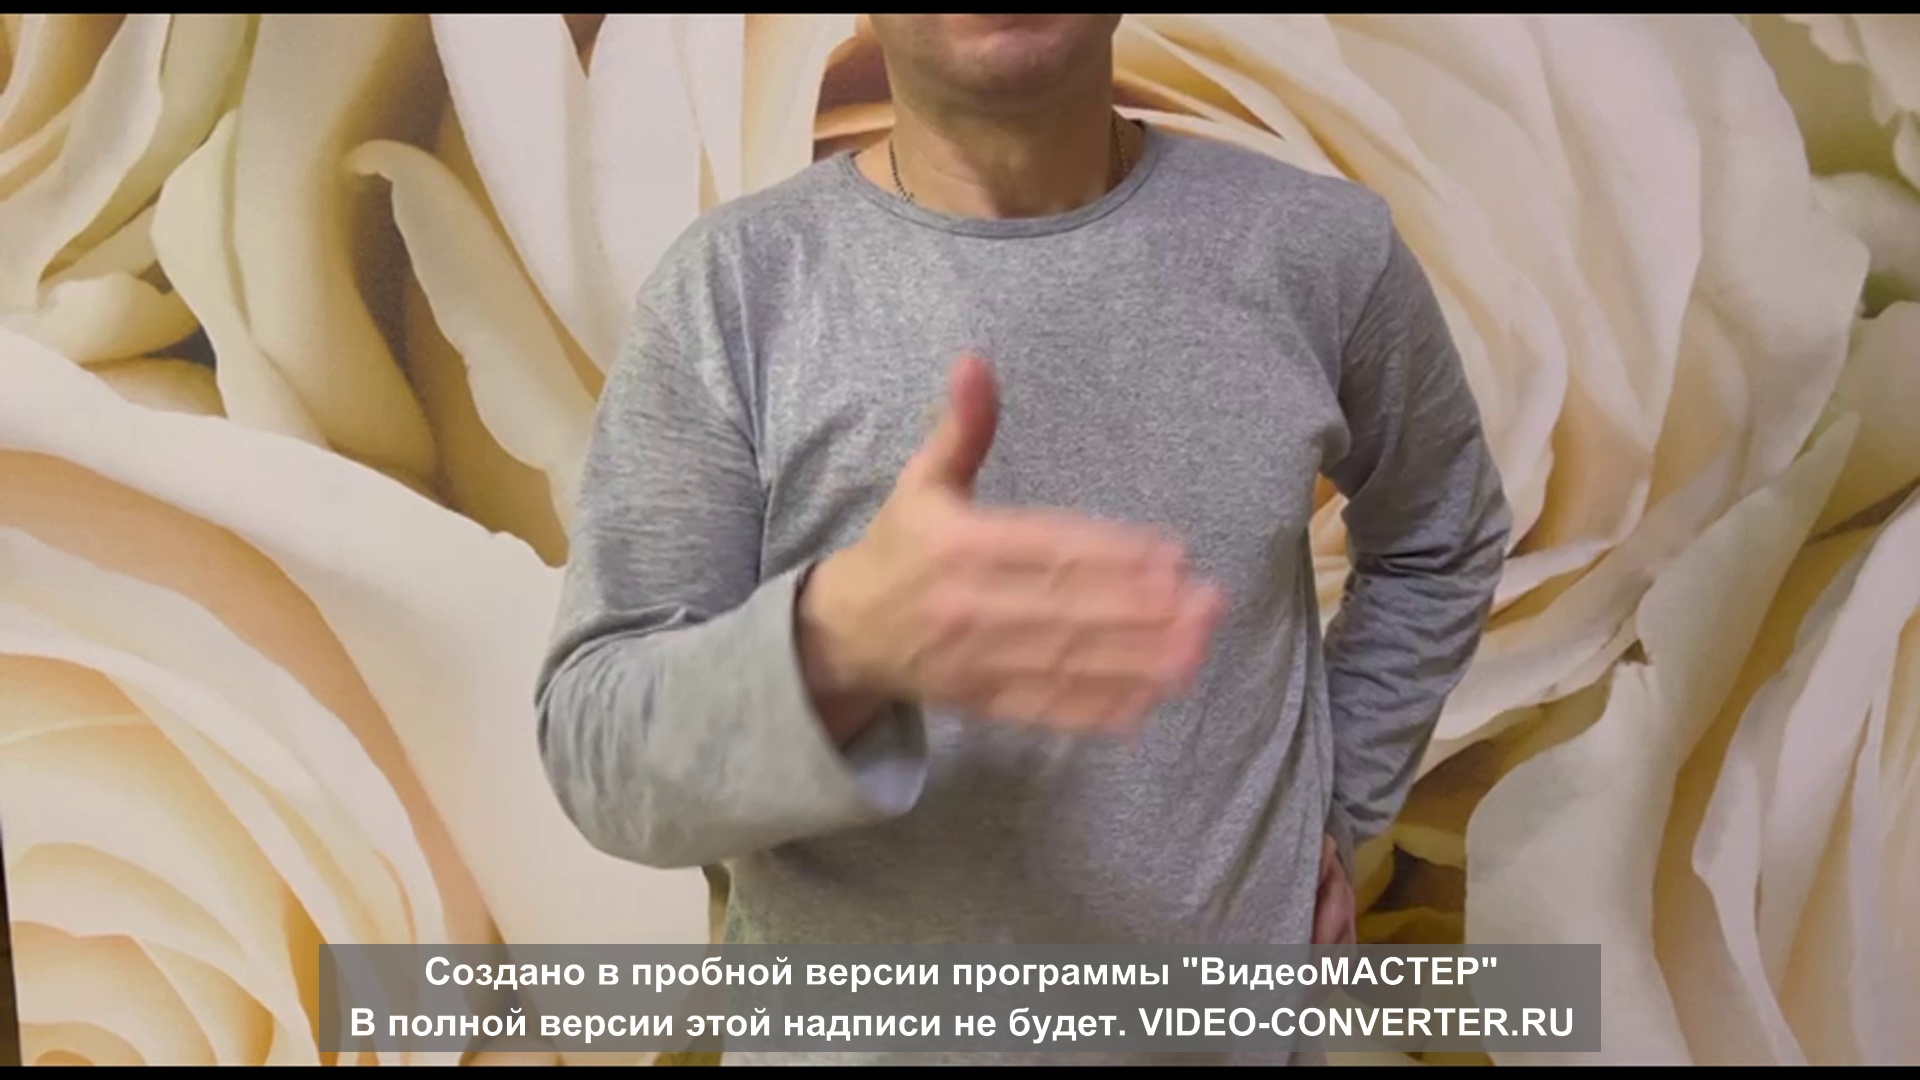Кисть: (839, 359, 1222, 753)
